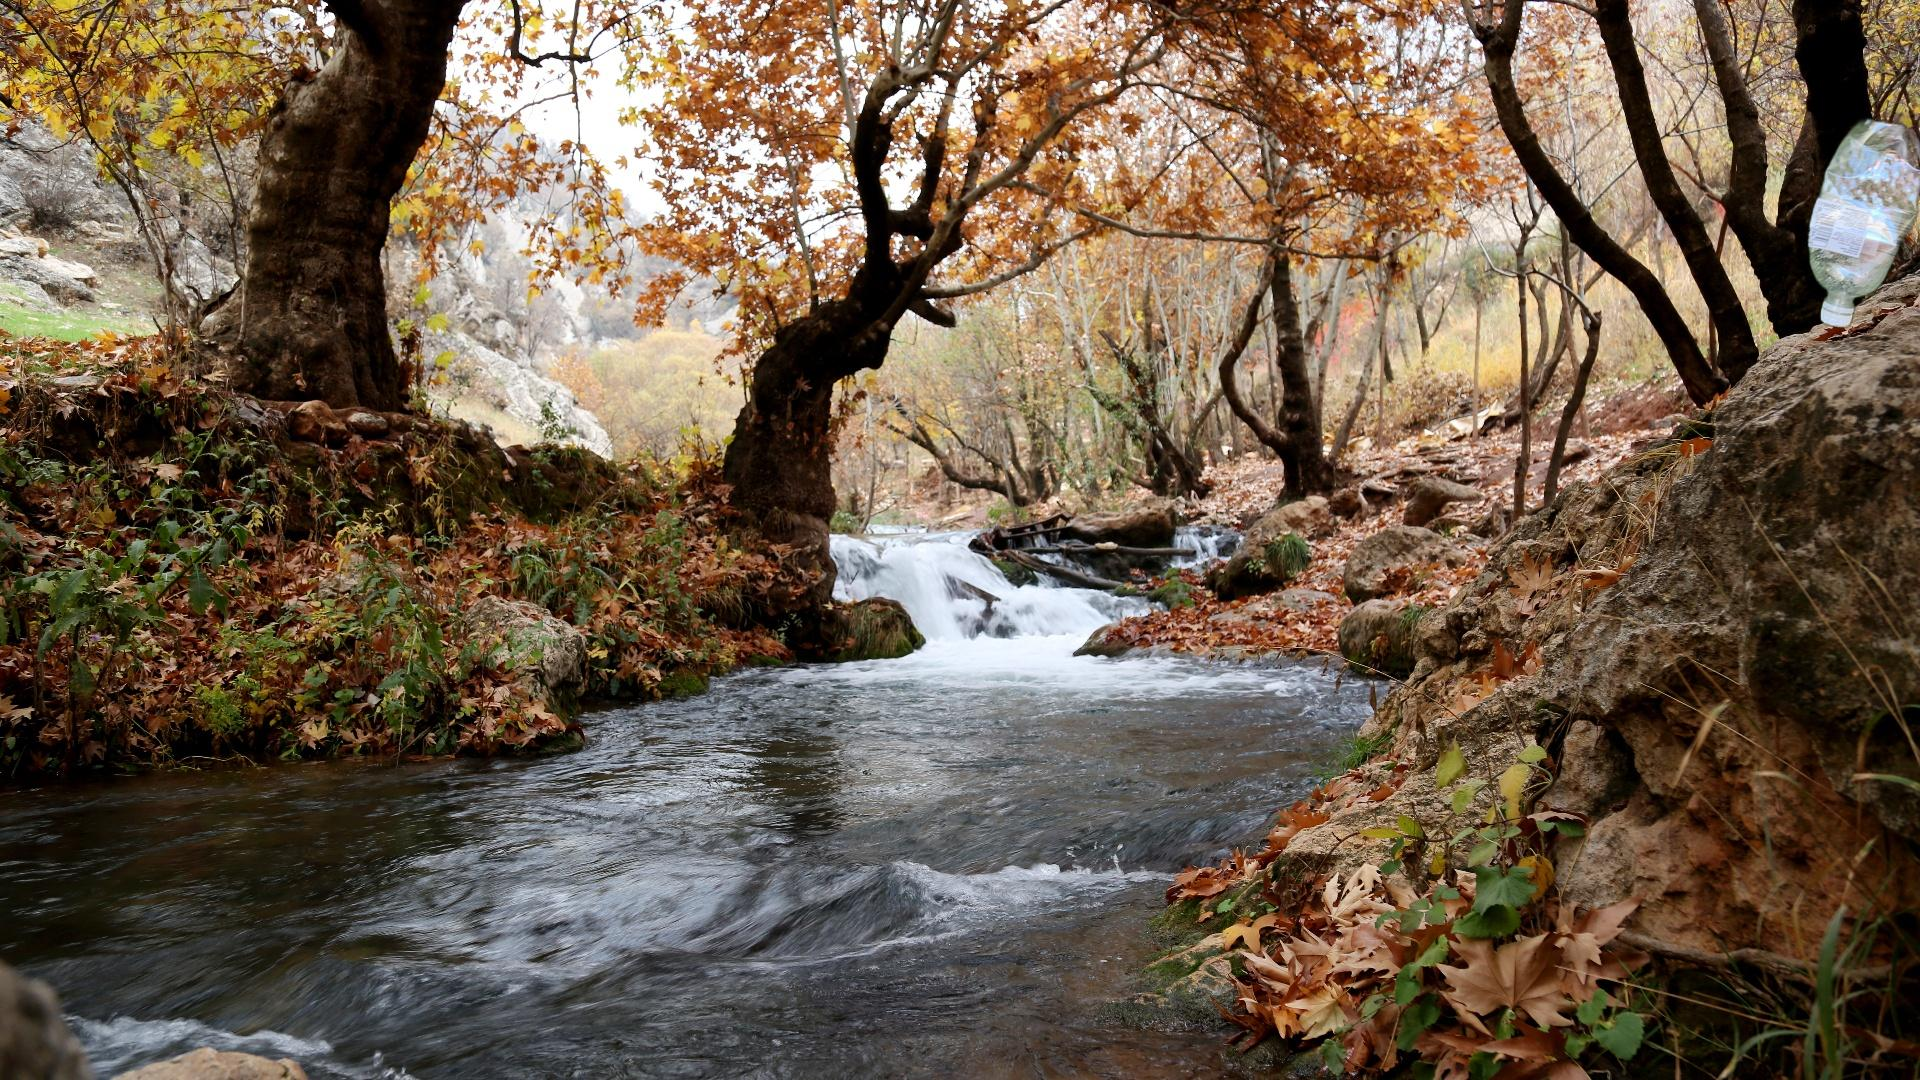plastic-bottles: (1803, 112, 1920, 334)
